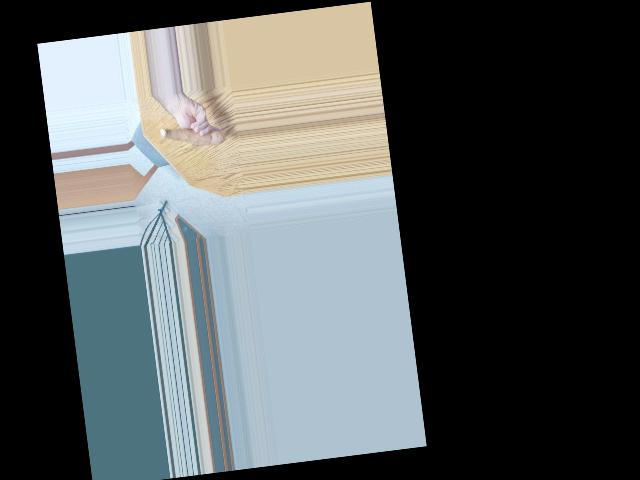sweet_potato: (162, 118, 223, 154)
